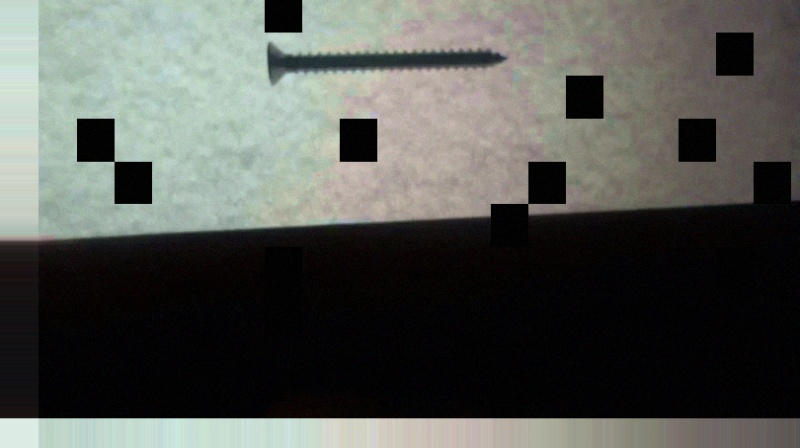S002: (262, 33, 510, 88)
